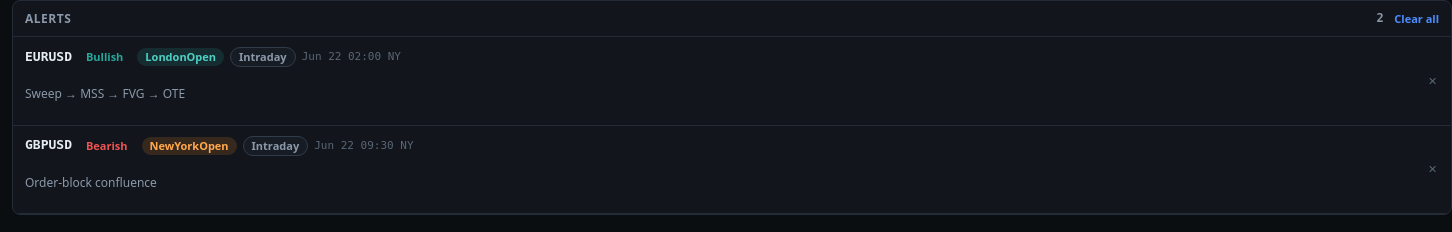
AlertsFeed dismiss › "Clear all" dismisses every visible row → "All caught up." empty state
What coordinates should you click on to do the following:
click the button "Clear all"
I would click on:
 (1417, 19)
Its box is [1394,11,1439,27].
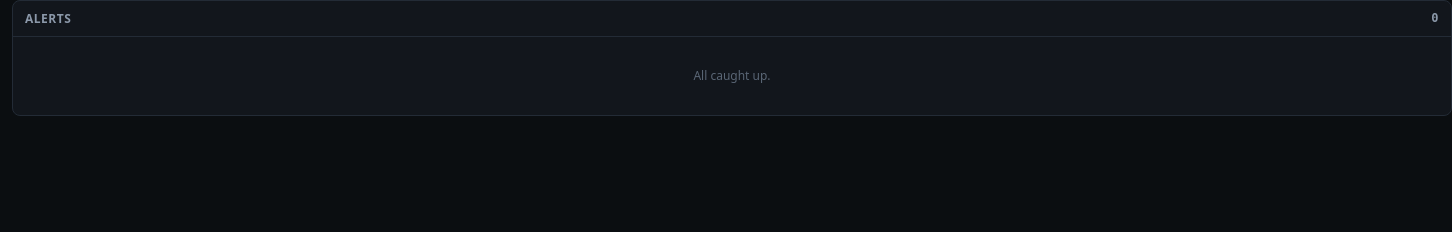
Result: the text "All caught up." is shown at [693,67,771,84]
